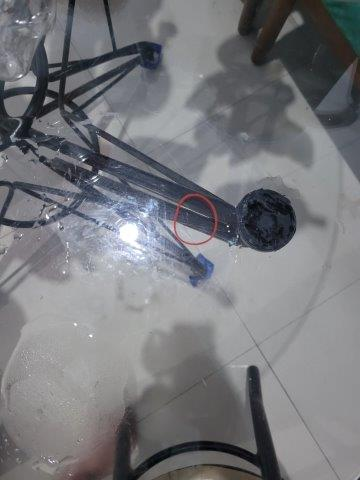karet: (173, 192, 220, 249)
